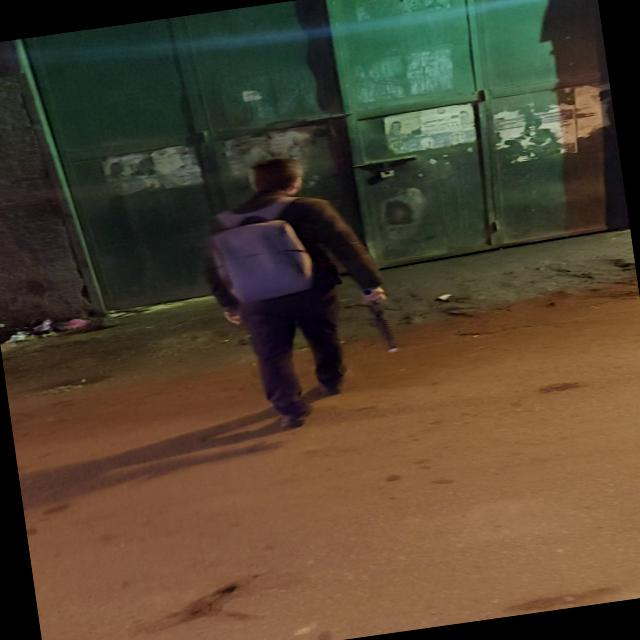long weapon: (340, 257, 430, 371)
